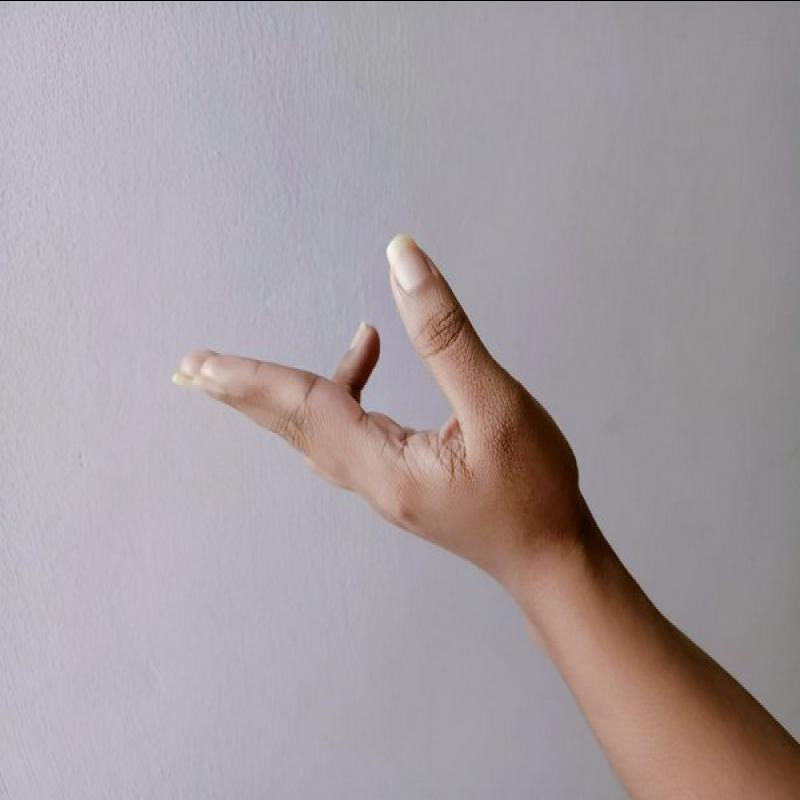Pathaaka: (157, 219, 600, 573)
